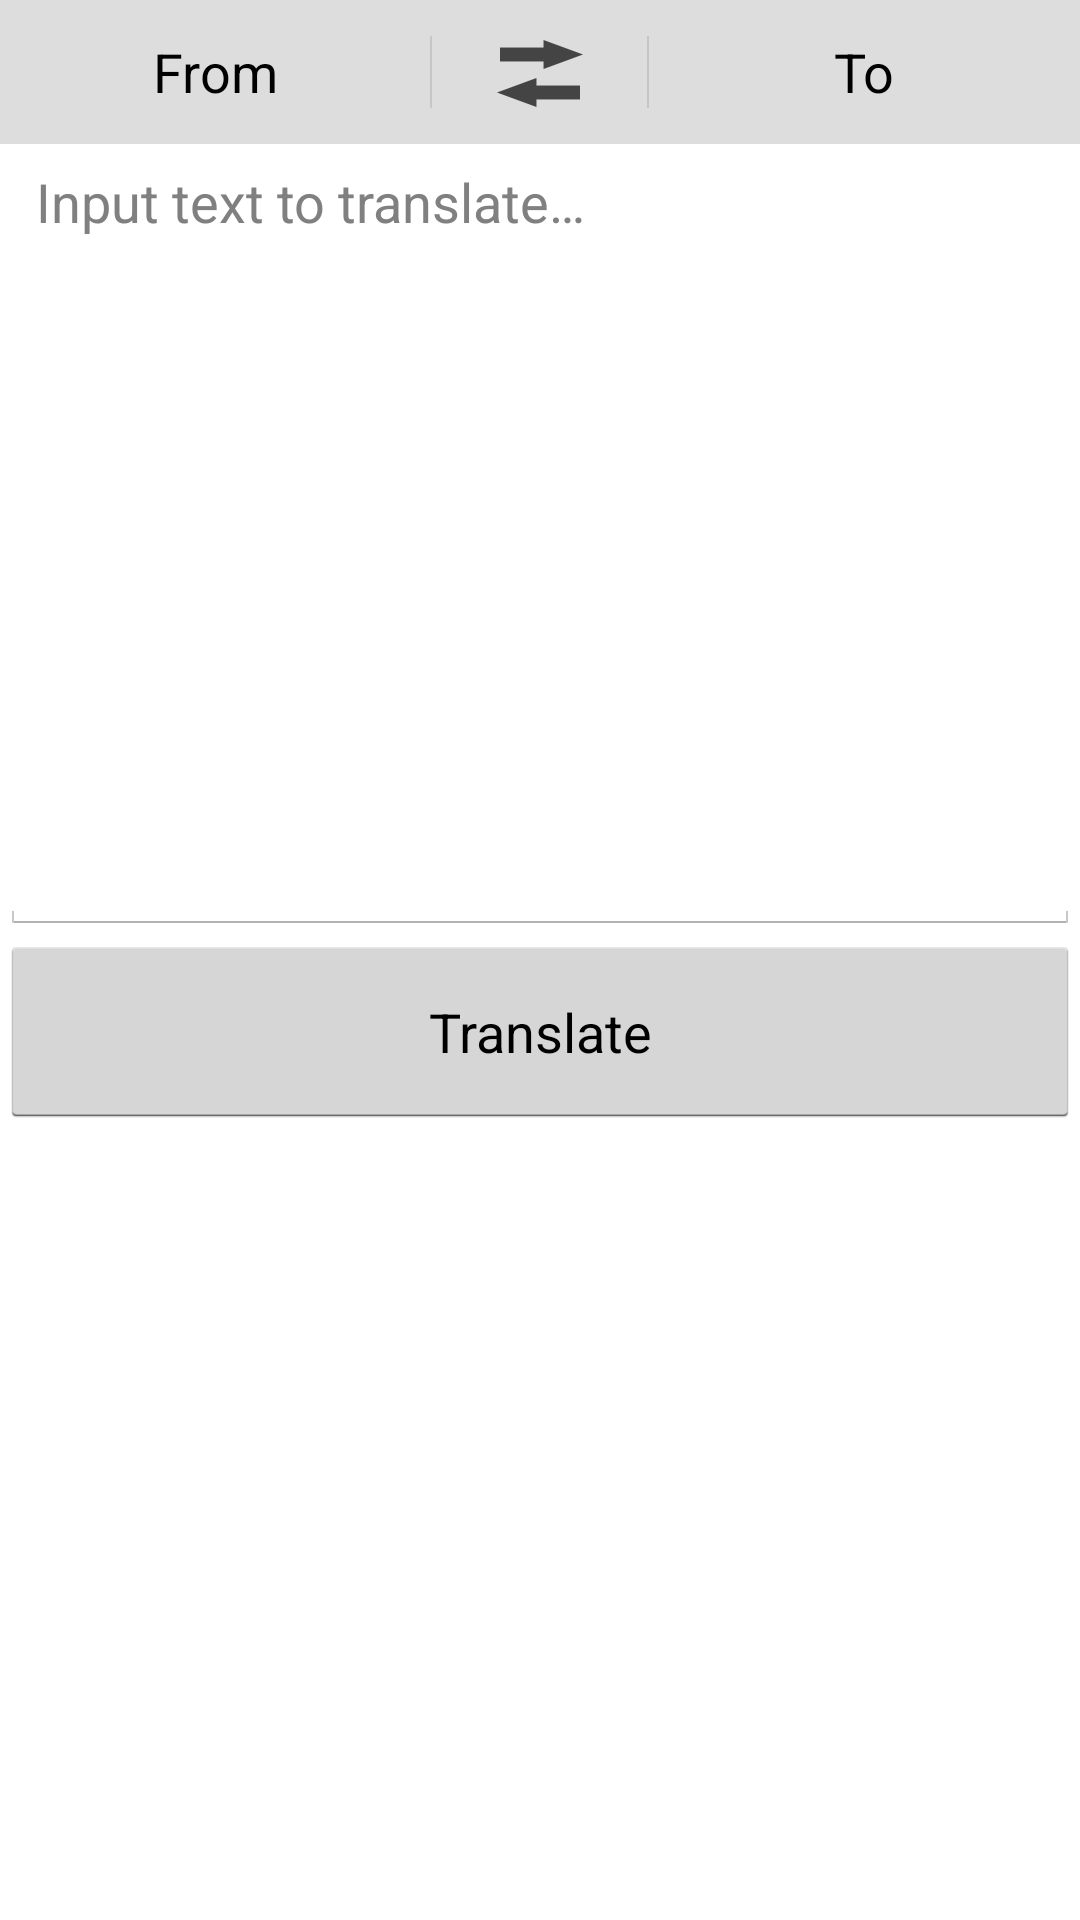

Screen size 1080 × 1920. Icon name, then its box in pixels as (x1, y1, x2, y2):
Swap languages: (497, 40, 583, 107)
